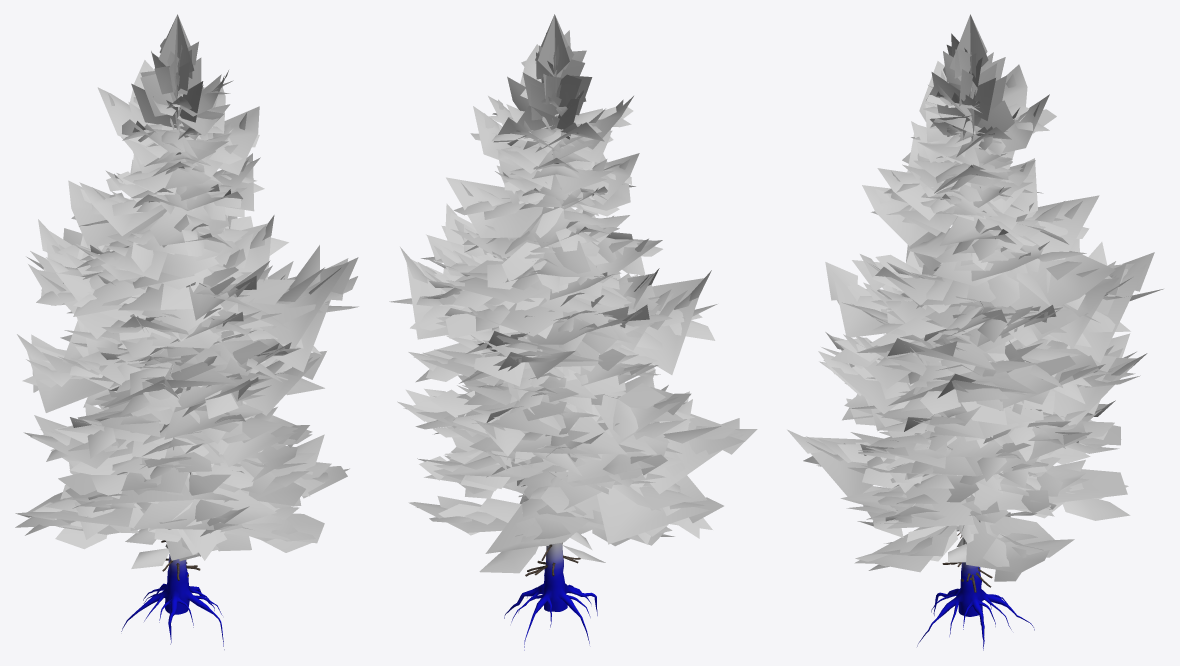
The model's file is Tree4_LOD0.fbx.
3 renders of one model, left to right at view 1: azimuth 30°, elevation 25°; view 2: azimuth 150°, elevation 25°; view 3: azimuth 270°, elevation 25°, orthographic.
Visible parts, largest first — view 1: polySurface1876; view 2: polySurface1876; view 3: polySurface1876.
Boxes of the visible parts, left/top/right/bottom form: polySurface1876: left=15, top=14, right=358, bottom=649; polySurface1876: left=389, top=14, right=757, bottom=650; polySurface1876: left=787, top=14, right=1163, bottom=650.
Bounding box in the file's own units: 810 × 1461 × 802.
